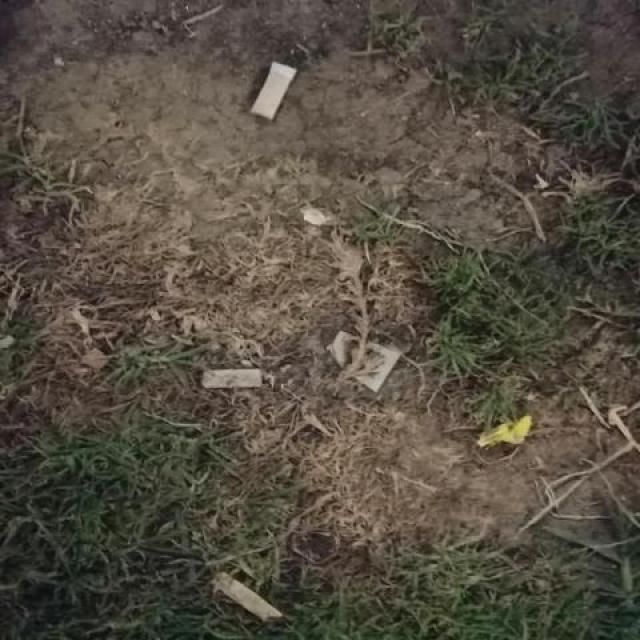non-organic waste: (206, 558, 290, 626), (248, 53, 303, 127), (197, 364, 268, 400)
